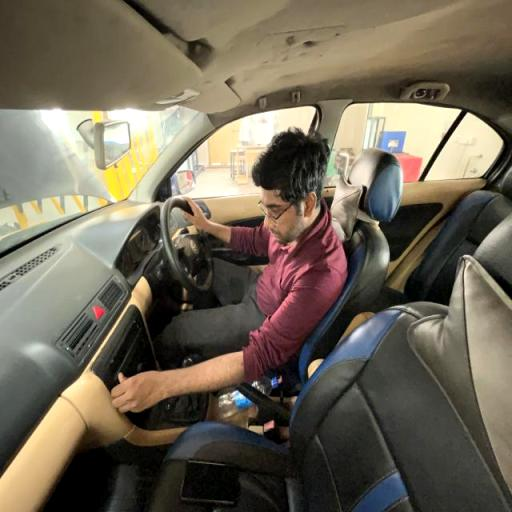operatingradio: (104, 126, 351, 419)
